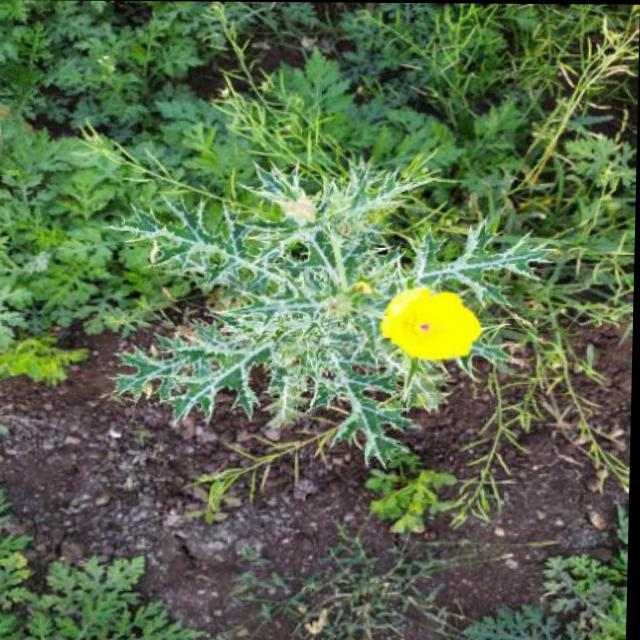weed: (11, 22, 605, 456)
